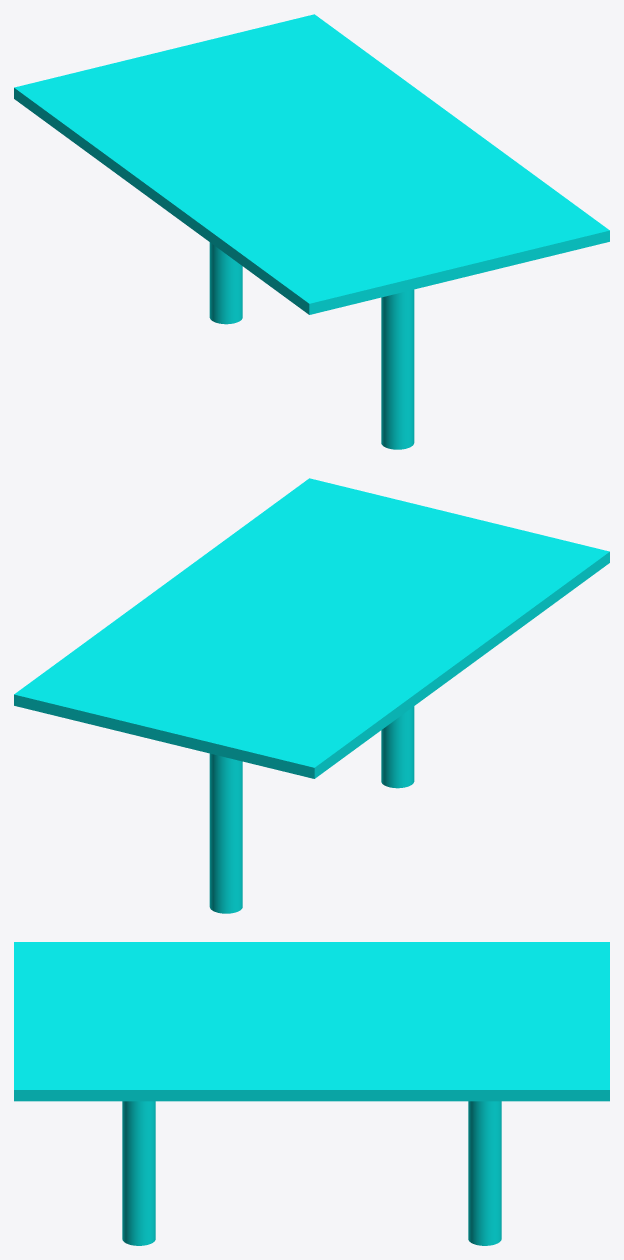
File: booth_table_mm.dae
3 views of the same model, one above another, from view 1: azimuth 30°, elevation 25°; view 2: azimuth 150°, elevation 25°; view 3: azimuth 270°, elevation 25° (orthographic).
Visible parts, largest first — view 1: a2db03b9-acdf-4417-bc84-152c48e0201d, a096912b-d726-4c82-a034-fee07950f245, a131b264-f0df-4a1b-9a10-5f57c387aaa4; view 2: a2db03b9-acdf-4417-bc84-152c48e0201d, a131b264-f0df-4a1b-9a10-5f57c387aaa4, a096912b-d726-4c82-a034-fee07950f245; view 3: a2db03b9-acdf-4417-bc84-152c48e0201d, a096912b-d726-4c82-a034-fee07950f245, a131b264-f0df-4a1b-9a10-5f57c387aaa4.
Part boxes in pixels (box(x1,y1,x2,y2)): a2db03b9-acdf-4417-bc84-152c48e0201d: box(14, 14, 609, 314); a096912b-d726-4c82-a034-fee07950f245: box(381, 289, 414, 449); a131b264-f0df-4a1b-9a10-5f57c387aaa4: box(209, 242, 242, 324); a2db03b9-acdf-4417-bc84-152c48e0201d: box(14, 478, 609, 778); a131b264-f0df-4a1b-9a10-5f57c387aaa4: box(209, 753, 242, 913); a096912b-d726-4c82-a034-fee07950f245: box(381, 706, 414, 788); a2db03b9-acdf-4417-bc84-152c48e0201d: box(14, 942, 609, 1101); a096912b-d726-4c82-a034-fee07950f245: box(122, 1101, 155, 1245); a131b264-f0df-4a1b-9a10-5f57c387aaa4: box(468, 1101, 501, 1245).
Size of the model in its own units: 1067 by 1816 by 749.
